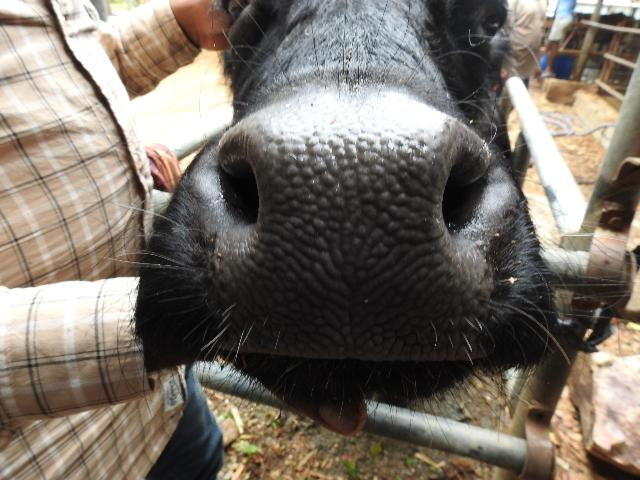Muzzle: (227, 126, 483, 354)
